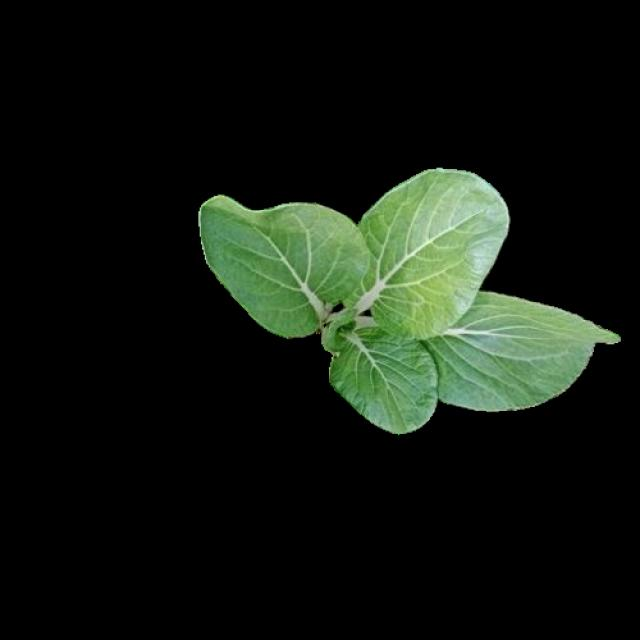healthy: (206, 190, 620, 446)
mature: (202, 173, 616, 429)
